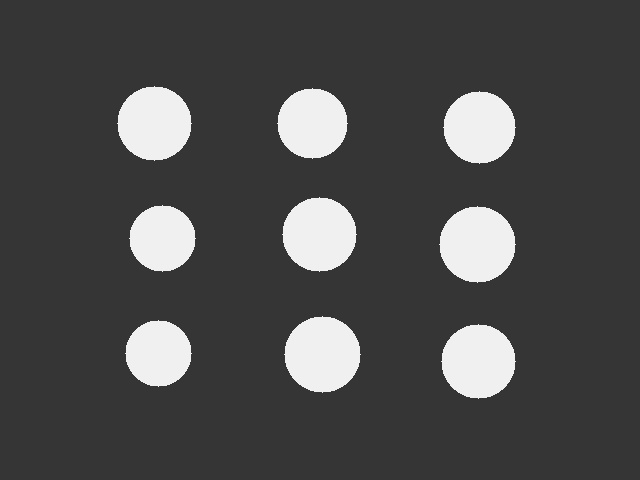hole: (439, 206, 515, 282), (284, 316, 360, 392), (117, 86, 191, 160), (282, 197, 356, 271), (441, 324, 515, 398), (443, 91, 515, 163), (277, 88, 347, 158), (129, 205, 195, 271), (125, 320, 191, 386)
